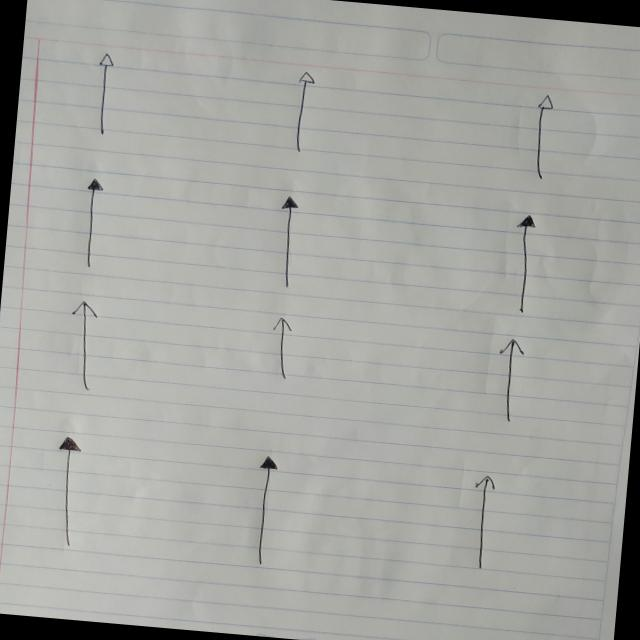arrow_line_up: (44, 434, 86, 549), (62, 298, 105, 392), (504, 212, 542, 316), (488, 336, 532, 425), (246, 453, 280, 568), (268, 193, 306, 291), (74, 176, 108, 272), (524, 91, 559, 181), (464, 473, 496, 569), (88, 50, 118, 137), (286, 68, 315, 152), (264, 316, 299, 384)
